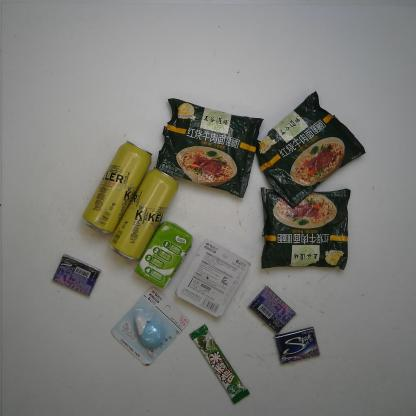Alcohol: (104, 163, 181, 264), (77, 136, 154, 236)
Chocolate: (186, 321, 253, 407)
Gum: (47, 250, 105, 302), (245, 282, 298, 336), (269, 322, 324, 368)
Instant Noodles: (254, 88, 369, 212), (151, 94, 267, 201), (254, 181, 355, 272)
Milk: (128, 218, 195, 292)
Stationery: (107, 283, 192, 370), (172, 234, 254, 321)
